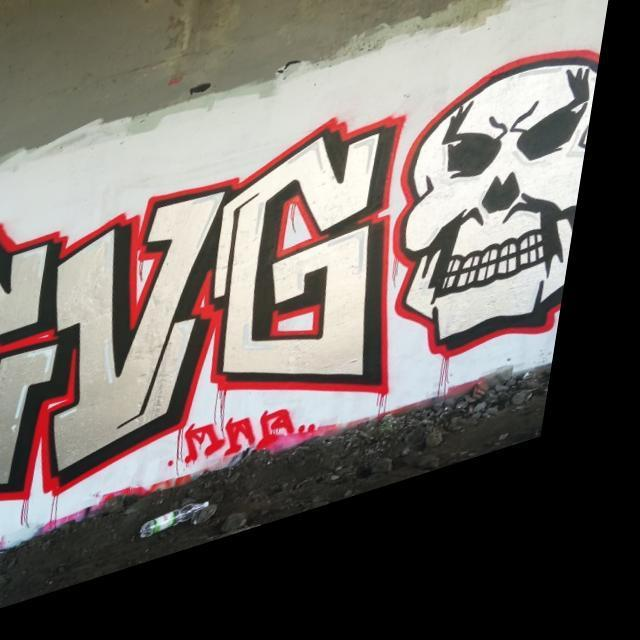-: (0, 127, 418, 544), (378, 71, 612, 428)
